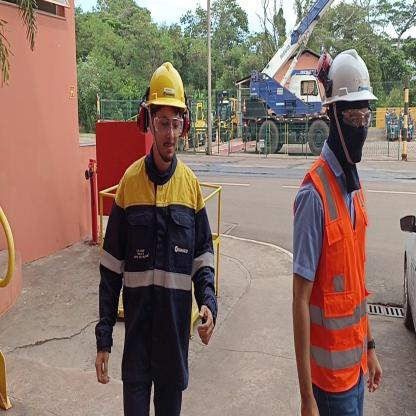Balaclava: (322, 104, 370, 173)
C_eletrica: (102, 159, 218, 395)
Capacete: (315, 46, 377, 104), (146, 57, 190, 113)
colete: (285, 156, 378, 386)
